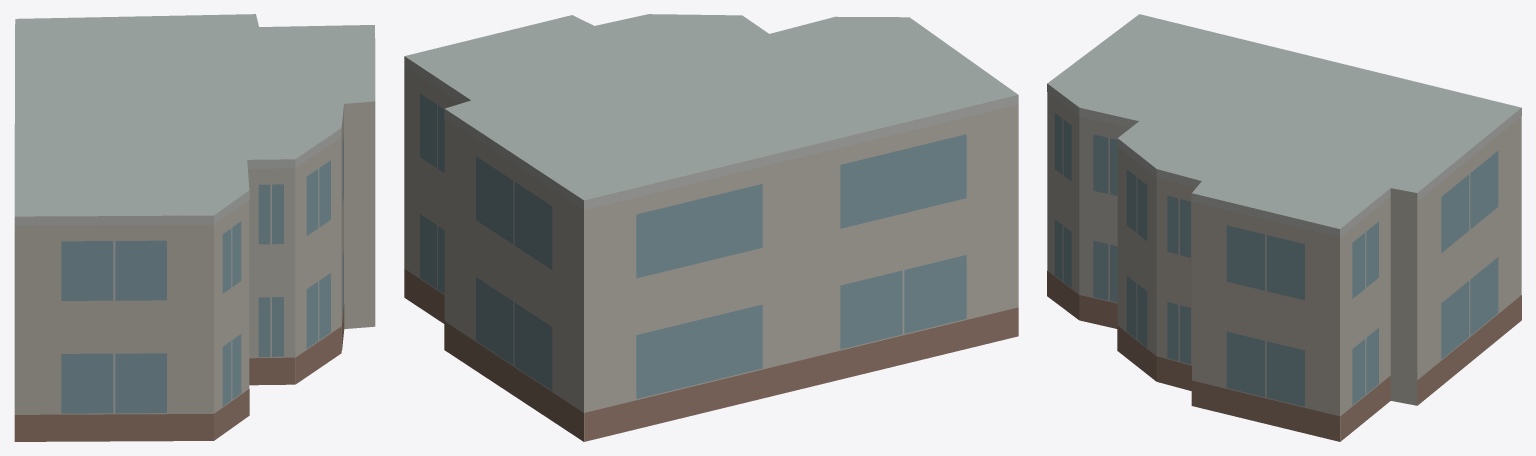
The model's file is survey-upis-33040748.glb.
The picture shows the model from 3 angles, left to right: view 1: azimuth 30°, elevation 25°; view 2: azimuth 150°, elevation 25°; view 3: azimuth 270°, elevation 25°; orthographic projection. The views are drawn at different scales.
Visible parts, largest first — view 1: survey-upis-33040748.tmp; view 2: survey-upis-33040748.tmp; view 3: survey-upis-33040748.tmp.
Boxes of the visible parts, x1,y1,x2,y2 form: survey-upis-33040748.tmp: (14,14,375,441); survey-upis-33040748.tmp: (404,14,1018,441); survey-upis-33040748.tmp: (1047,14,1521,441).
Size of the model in its own units: 13.24 by 6.1 by 12.34.
